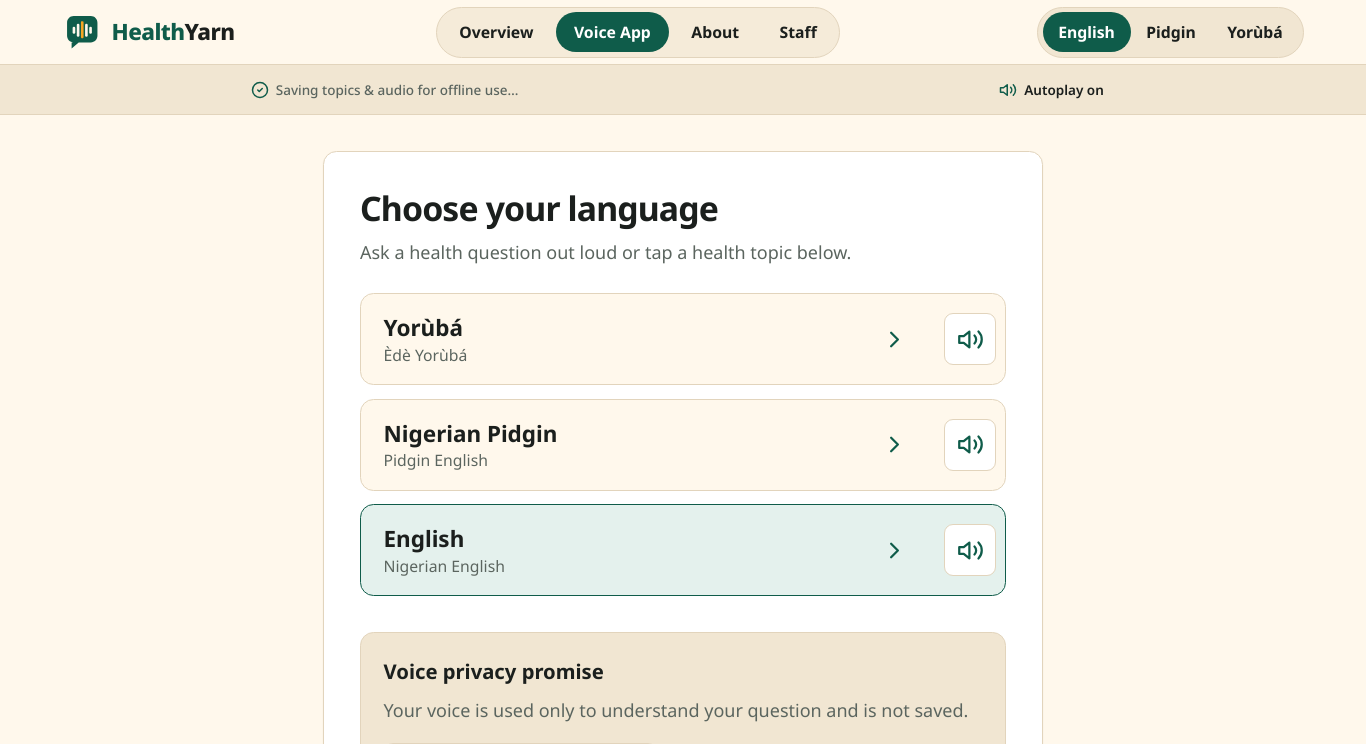
Scenario: HealthYarn Landing & App Core Flows › remembers language selection in /app language picker
Click the button with aria-label "Yorùbá —": (423, 328) [361,294,930,384]
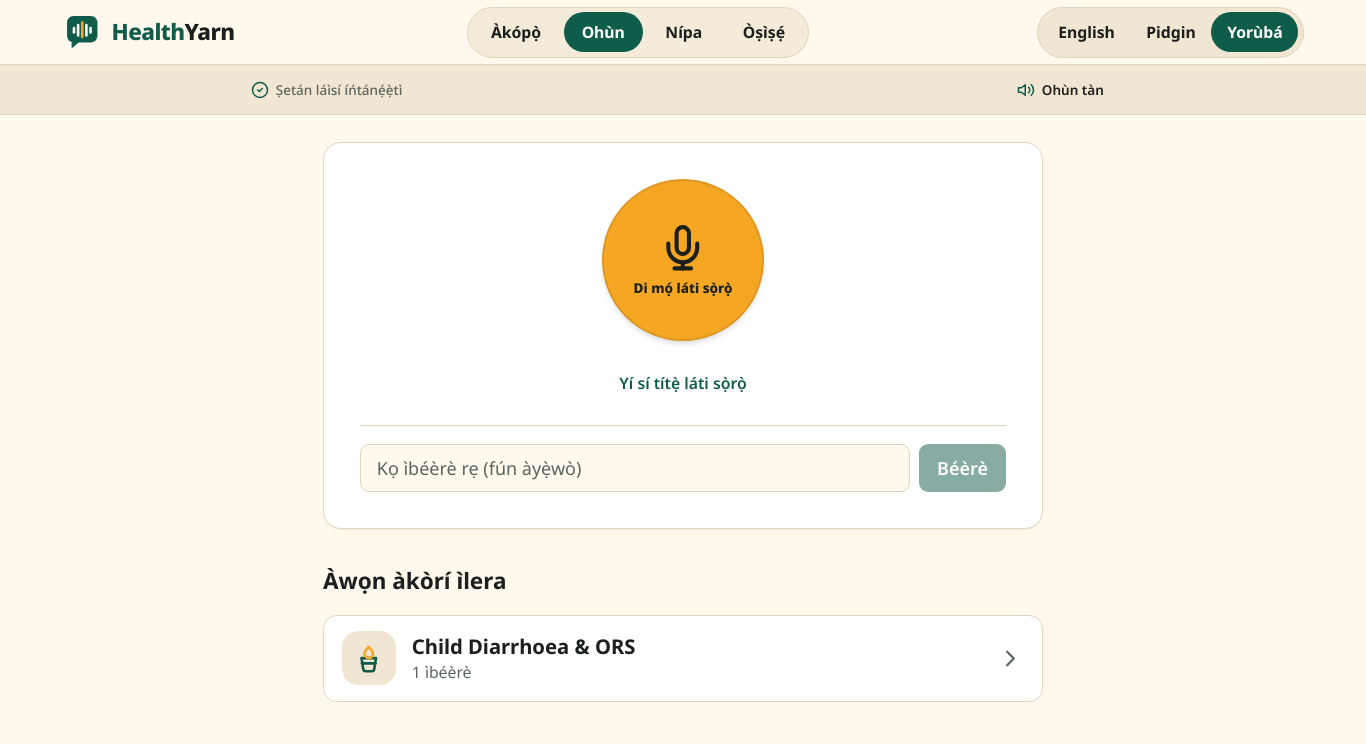
Now the heading "Àwọn àkòrí ìlera" is shown, box [323,565,506,596]
